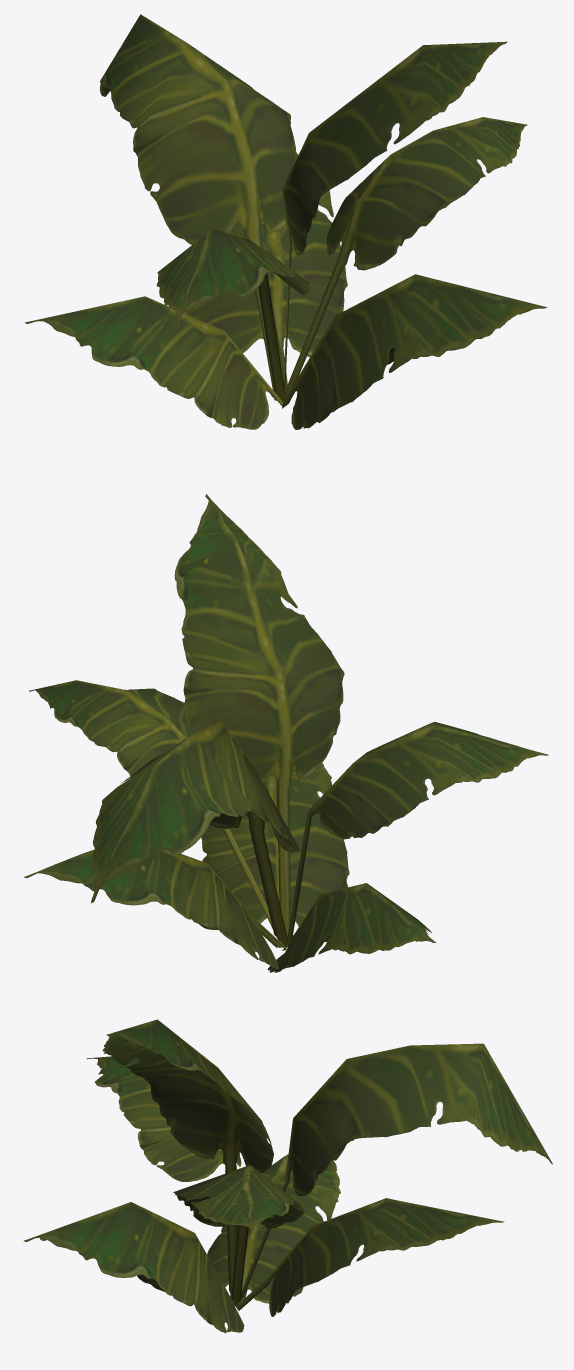
The model's file is Wetlands_Shrub_01.fbx.
The picture shows the model from 3 angles, top to bottom: view 1: azimuth 30°, elevation 25°; view 2: azimuth 150°, elevation 25°; view 3: azimuth 270°, elevation 25°; orthographic projection. The views are drawn at different scales.
Visible parts, largest first — view 1: Wetlands_Shrub_01; view 2: Wetlands_Shrub_01; view 3: Wetlands_Shrub_01.
Part boxes in pixels (x1,y1,x2,y2): Wetlands_Shrub_01: [25, 14, 547, 429]; Wetlands_Shrub_01: [24, 494, 548, 972]; Wetlands_Shrub_01: [24, 1019, 553, 1333].
Size of the model in its own units: 3.63 by 2.93 by 4.01.
Materials: 1 (1 with a texture image).
